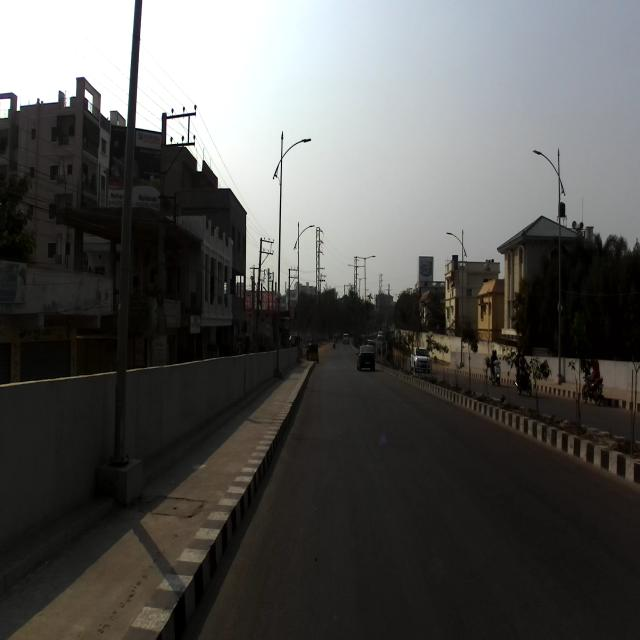electric pole ahead at: (106, 1, 152, 490)
